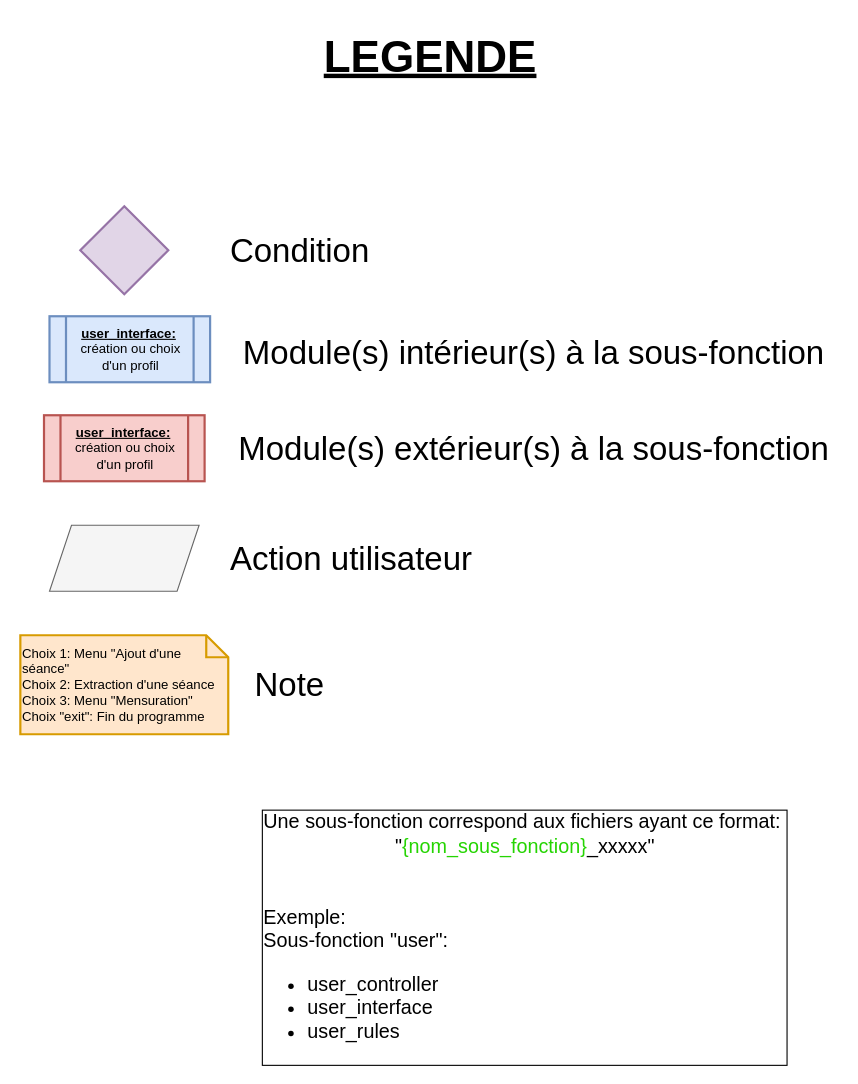
Some shapes in this 858 by 1084 pixel diagram are drawn without their labels. The shapes that lost their labels are listed below. From the top down, each one's box as (x1, y1, x2, y2) in pixels, then its label:
(79, 205, 169, 295): présence 1 profil?
(48, 524, 199, 591): Saisie utilisateur pour le choix
